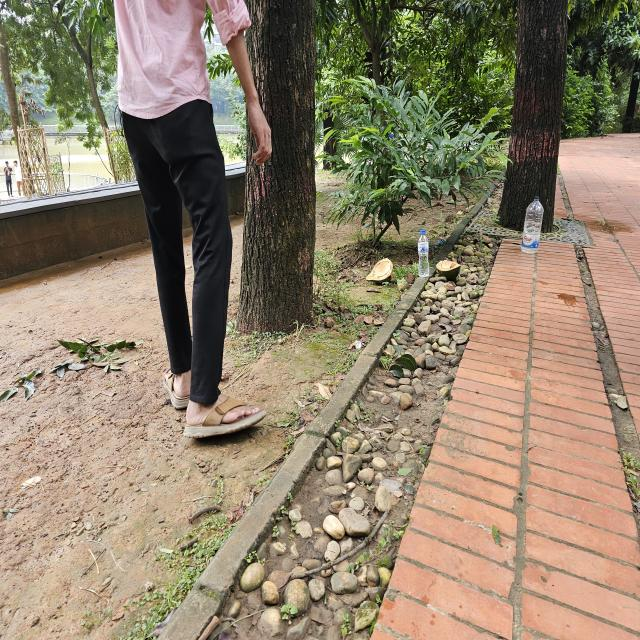artificial_container: (522, 193, 544, 254), (417, 228, 432, 278)
